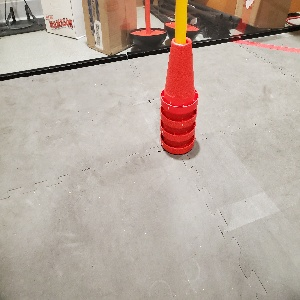Red_4: (158, 34, 200, 158)
